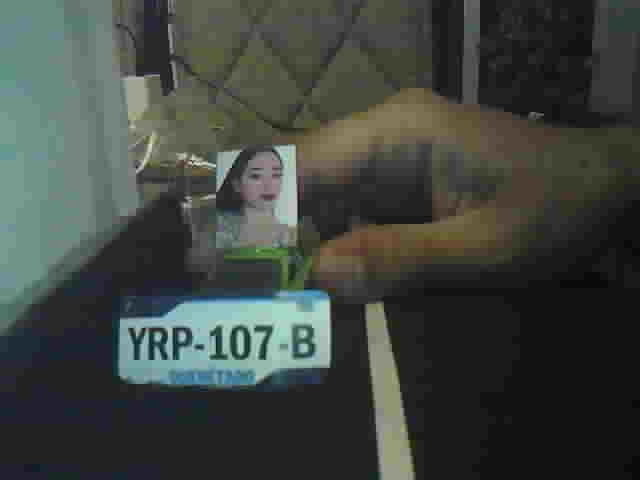PLACA: (114, 288, 334, 391)
ROSTRO: (219, 150, 295, 246)
